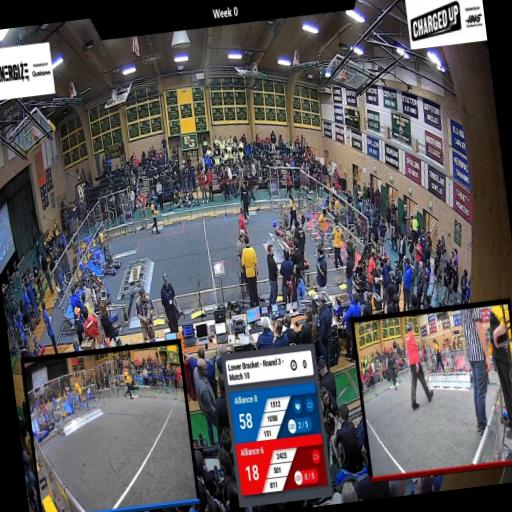robot: (88, 271, 114, 315), (272, 200, 296, 242), (288, 240, 312, 274), (100, 245, 122, 278), (282, 219, 305, 250), (101, 300, 120, 326)
